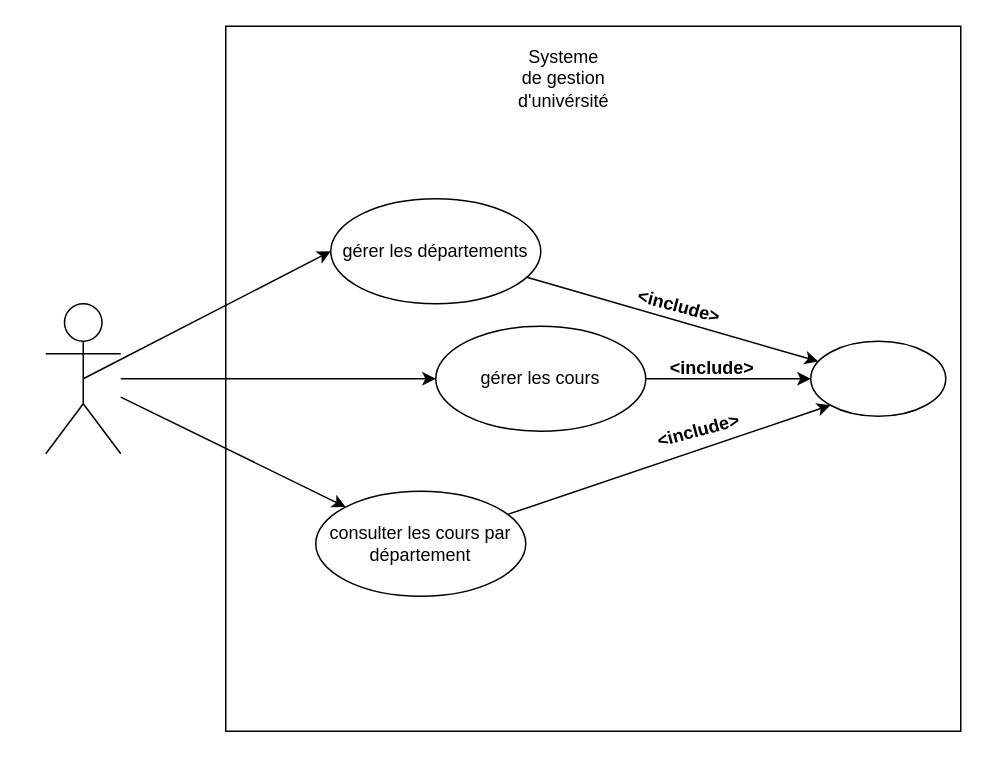
This 987x758 diagram has some shape labels left out. Here are the shapes that lost their labels. From the top down, the box of each, then its label:
(44, 302, 121, 454): Administrateur
(809, 340, 946, 416): se connecter
